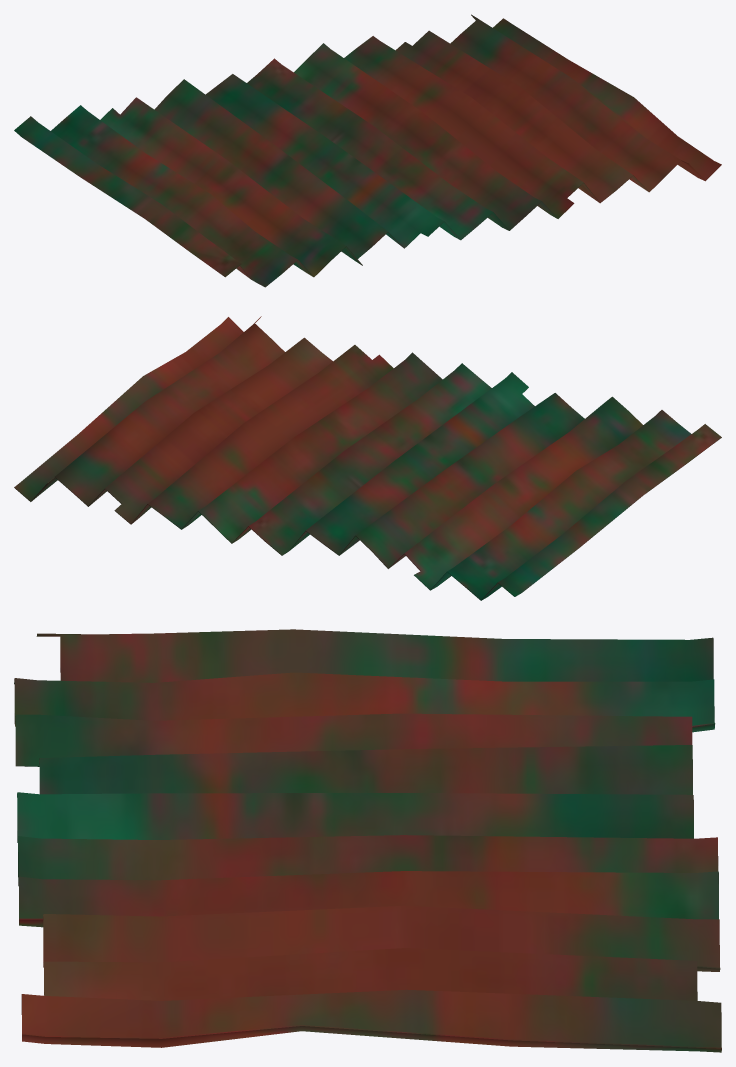
File: Metal_Sheet_03.glb
3 renders of one model, top to bottom at view 1: azimuth 30°, elevation 25°; view 2: azimuth 150°, elevation 25°; view 3: azimuth 270°, elevation 25°, orthographic. The views are drawn at different scales.
Parts seen in each view (by area): view 1: Metal_Sheet_03; view 2: Metal_Sheet_03; view 3: Metal_Sheet_03.
Part boxes in pixels (<box>): Metal_Sheet_03: <box>14,14,721,287</box>; Metal_Sheet_03: <box>14,316,721,600</box>; Metal_Sheet_03: <box>14,629,721,1052</box>.
Size of the model in its own units: 2.43 by 0.1732 by 1.85.
1 material, 1 textured.
